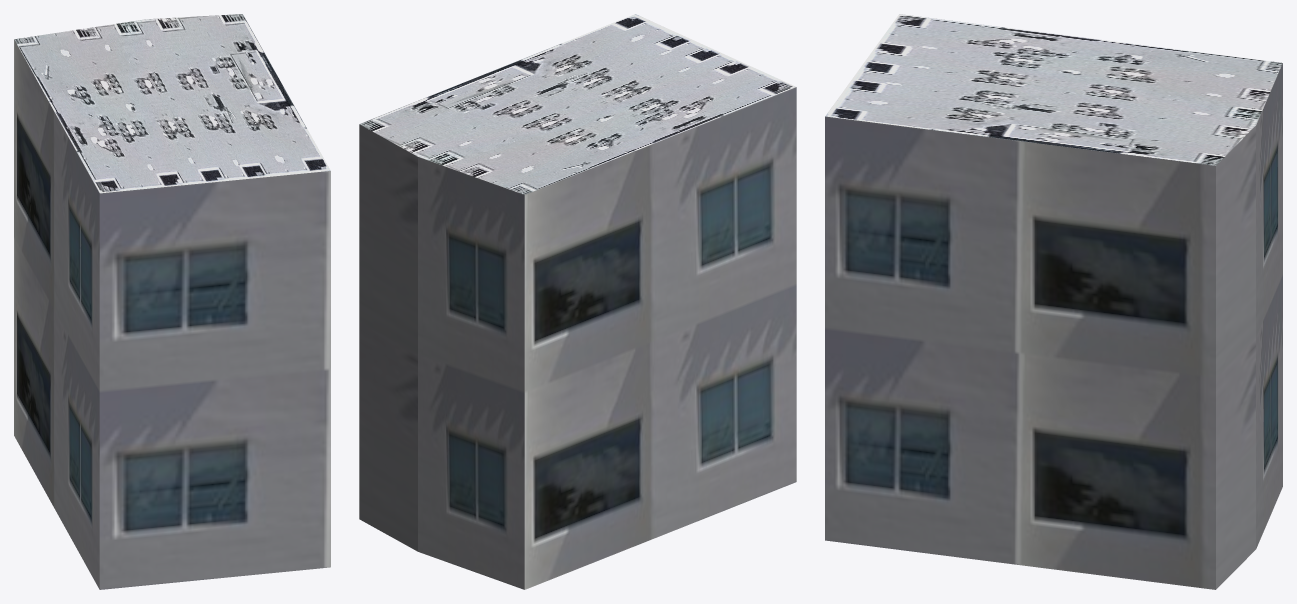
File: ResTex__2661.fbx
3 views of the same model, side by side, from view 1: azimuth 30°, elevation 25°; view 2: azimuth 150°, elevation 25°; view 3: azimuth 270°, elevation 25° (orthographic). The views are drawn at different scales.
Visible parts, largest first — view 1: CityEngineMaterial_10_m, CityEngineMaterial_4_m; view 2: CityEngineMaterial_10_m, CityEngineMaterial_4_m; view 3: CityEngineMaterial_10_m, CityEngineMaterial_4_m.
Part boxes in pixels (bbox=[...]): CityEngineMaterial_10_m: bbox=[14, 39, 330, 589]; CityEngineMaterial_4_m: bbox=[14, 14, 330, 193]; CityEngineMaterial_10_m: bbox=[359, 87, 796, 589]; CityEngineMaterial_4_m: bbox=[359, 14, 795, 194]; CityEngineMaterial_10_m: bbox=[825, 63, 1282, 589]; CityEngineMaterial_4_m: bbox=[825, 14, 1282, 165].
Size of the model in its own units: 4.61 by 6 by 5.87.
2 materials, 2 textured.
